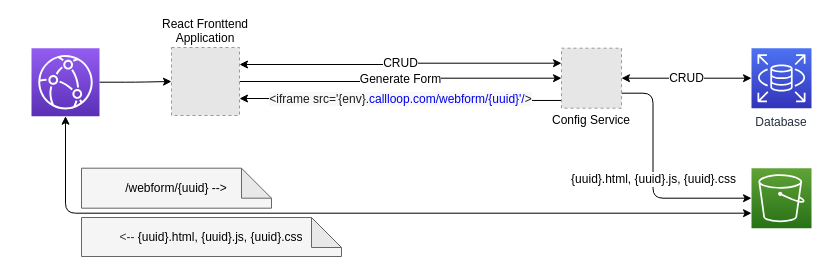
This 830x274 diagram has some shape labels left out. Grey dashed boxes stand in for pictures. The box of each missing label's shape, as (x1, y1, x2, y2) in pixels:
CDN {env}.callloop.com: (30, 47, 100, 116)
S3: (750, 167, 812, 228)
